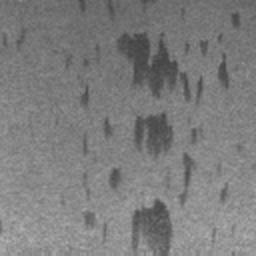Red iron sheet: (78, 0, 229, 256), (17, 28, 26, 47), (232, 13, 241, 29), (64, 55, 73, 70), (219, 187, 228, 201)
